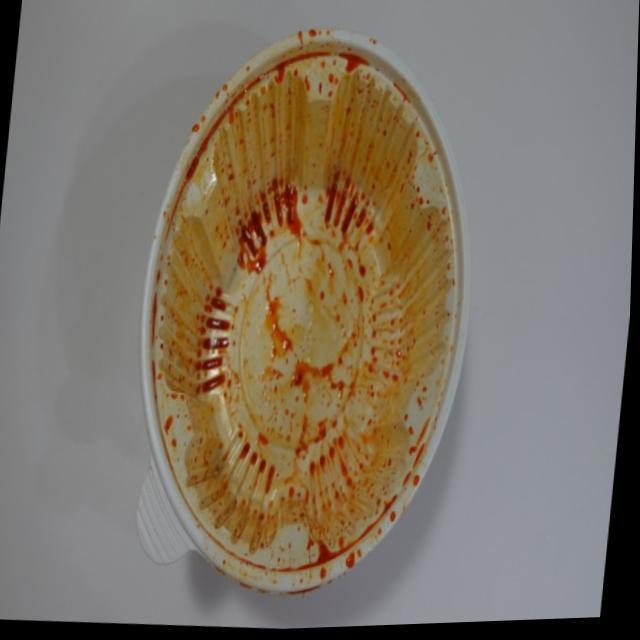disposable: (113, 13, 514, 640)
